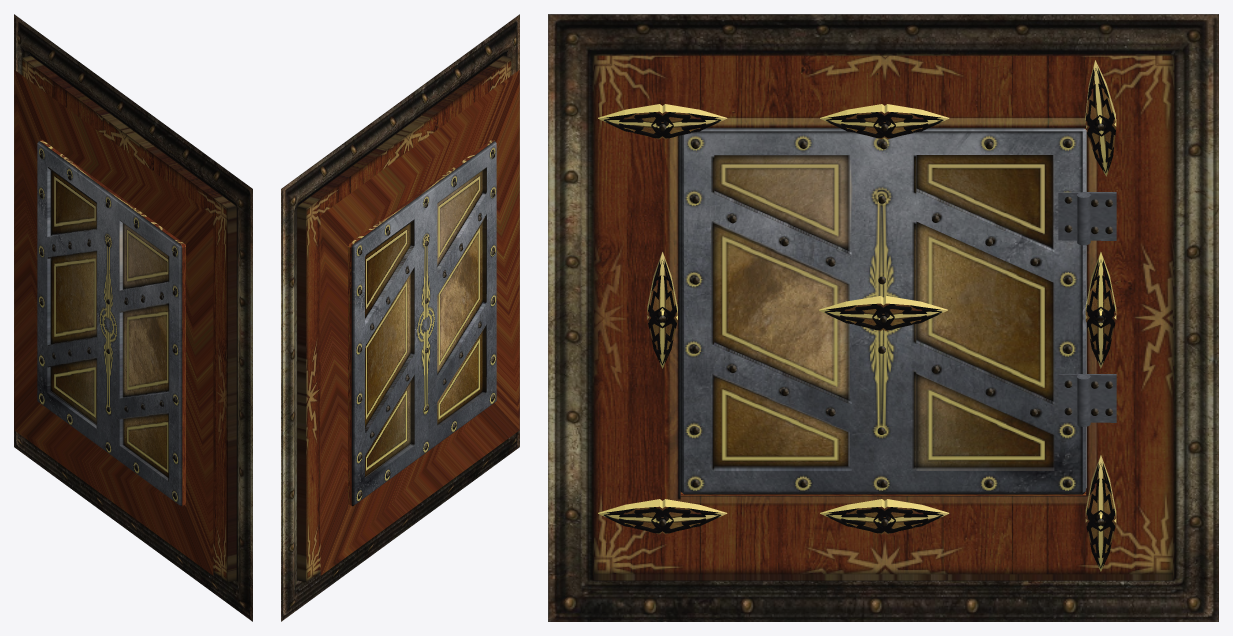
The model's file is Level_02_Wall_03.FBX.
3 views of the same model, side by side, from view 1: azimuth 30°, elevation 25°; view 2: azimuth 150°, elevation 25°; view 3: azimuth 270°, elevation 25° (orthographic). The views are drawn at different scales.
Visible parts, largest first — view 1: Wall_01, Door_01; view 2: Wall_01, Door_01; view 3: Wall_01, Door_01, Lock_Arrows_014, Lock_Arrows_01, Lock_Arrows_015, Lock_Arrows_009, Lock_Arrows_012, Lock_Arrows_013, Lock_Arrows_016, Lock_Arrows_010, Lock_Arrows_011.
Part boxes in pixels (left/top/right/bottom): Wall_01: left=14, top=14, right=252, bottom=621; Door_01: left=37, top=140, right=185, bottom=506; Wall_01: left=281, top=14, right=519, bottom=621; Door_01: left=348, top=140, right=496, bottom=506; Wall_01: left=548, top=14, right=1218, bottom=621; Door_01: left=680, top=128, right=1085, bottom=494; Lock_Arrows_014: left=598, top=499, right=727, bottom=534; Lock_Arrows_01: left=598, top=104, right=727, bottom=139; Lock_Arrows_015: left=820, top=499, right=949, bottom=534; Lock_Arrows_009: left=820, top=104, right=949, bottom=139; Lock_Arrows_012: left=819, top=296, right=947, bottom=331; Lock_Arrows_013: left=1085, top=251, right=1116, bottom=368; Lock_Arrows_016: left=1085, top=455, right=1116, bottom=571; Lock_Arrows_010: left=1085, top=60, right=1116, bottom=176; Lock_Arrows_011: left=647, top=251, right=677, bottom=368.
Bounding box in the file's own units: 8.89 × 100 × 100.
